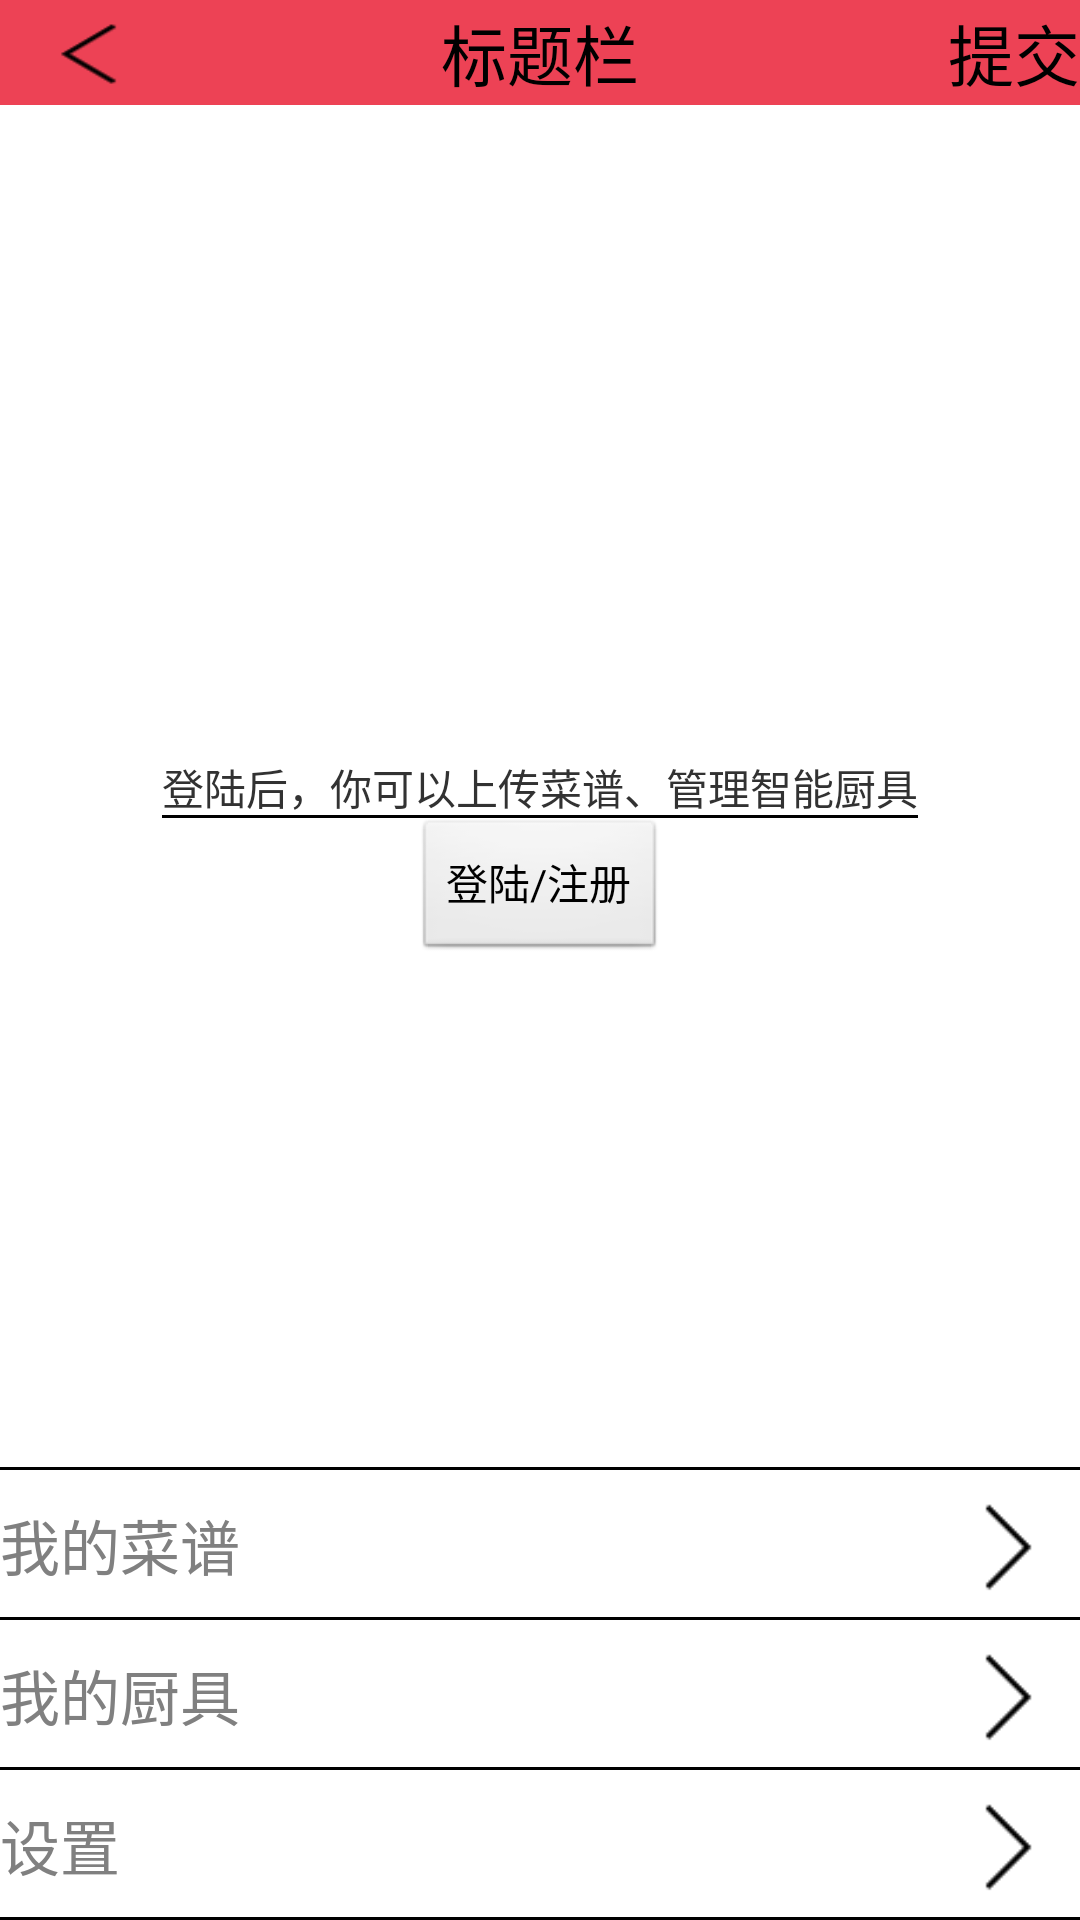

Where to tap for icons on this 1080w x 1920h app screen, as (x=x, y=y):
back arrow: (x=88, y=54)
forward arrow: (x=1008, y=1547), (x=1008, y=1697), (x=1008, y=1847)
